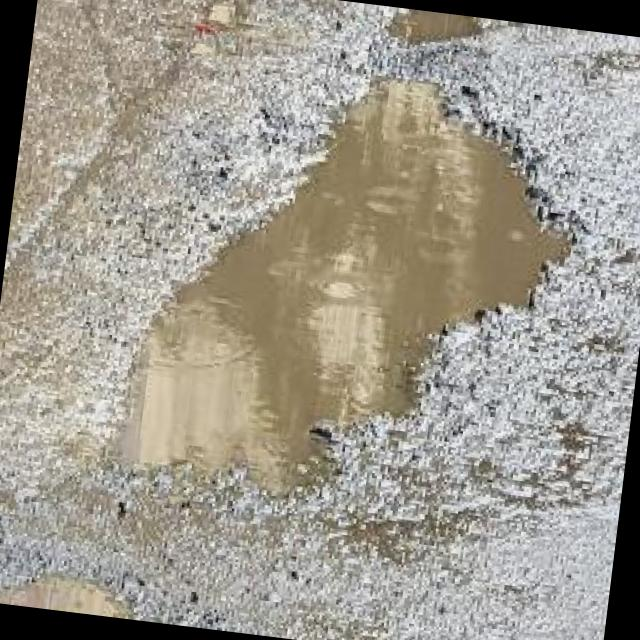waterlogging: (82, 51, 604, 546)
